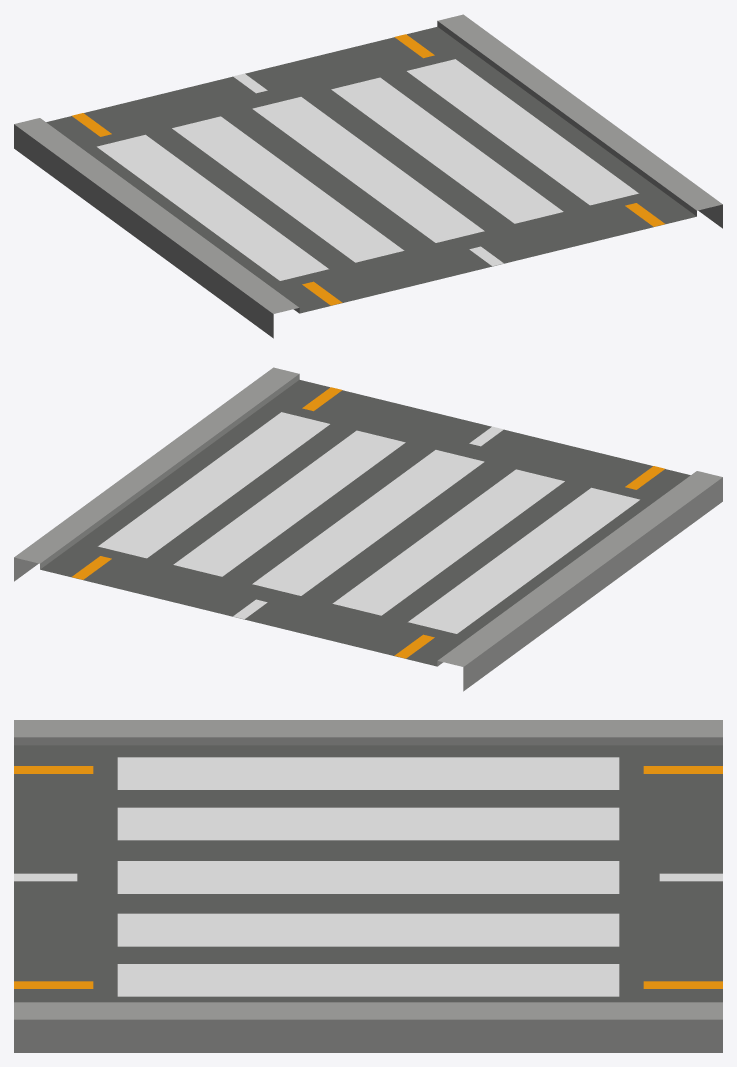
Rendered from Road_B_2_1.fbx.
3 renders of one model, top to bottom at view 1: azimuth 30°, elevation 25°; view 2: azimuth 150°, elevation 25°; view 3: azimuth 270°, elevation 25°, orthographic. The views are drawn at different scales.
Parts seen in each view (by area): view 1: Road_B_2_1; view 2: Road_B_2_1; view 3: Road_B_2_1.
Boxes of the visible parts, x1,y1,x2,y2 form: Road_B_2_1: [14, 14, 722, 338]; Road_B_2_1: [14, 367, 722, 691]; Road_B_2_1: [14, 720, 722, 1052].
Size of the model in its own units: 800 by 41.48 by 800.
